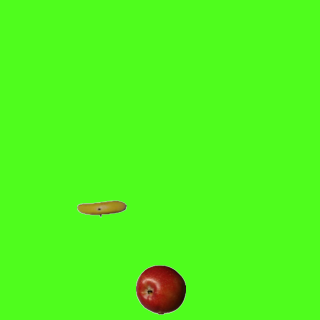Apple Braeburn: (135, 264, 185, 314)
Banana: (76, 183, 126, 233)
